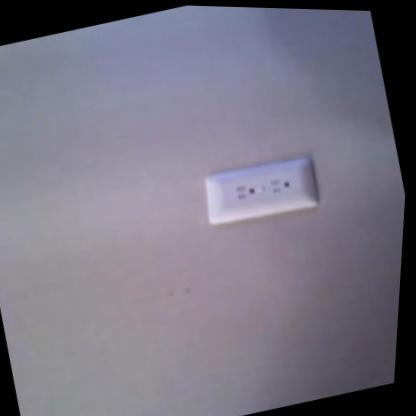OUTLET: (197, 151, 325, 232)
